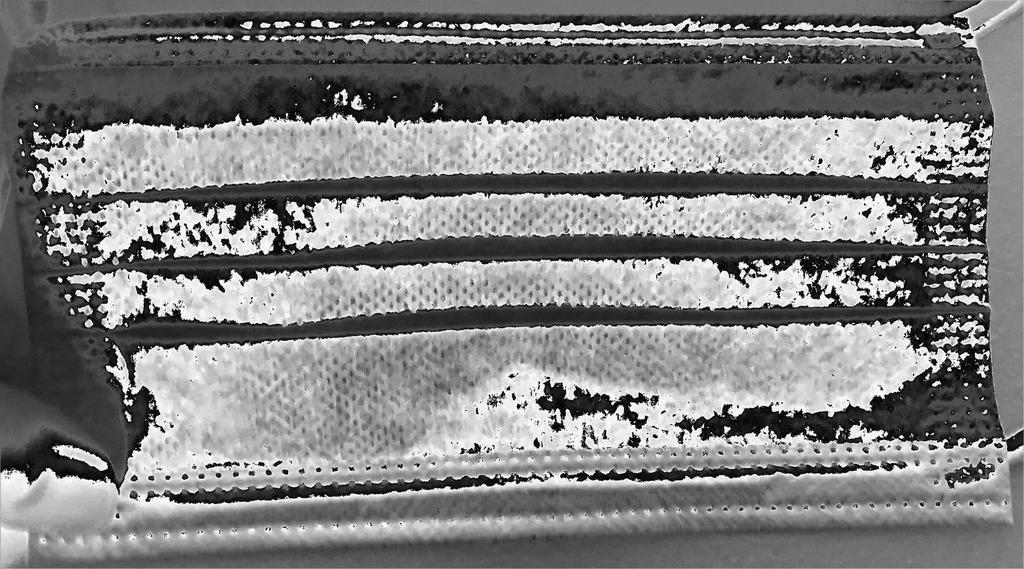High GSM: (129, 93, 1003, 468)
